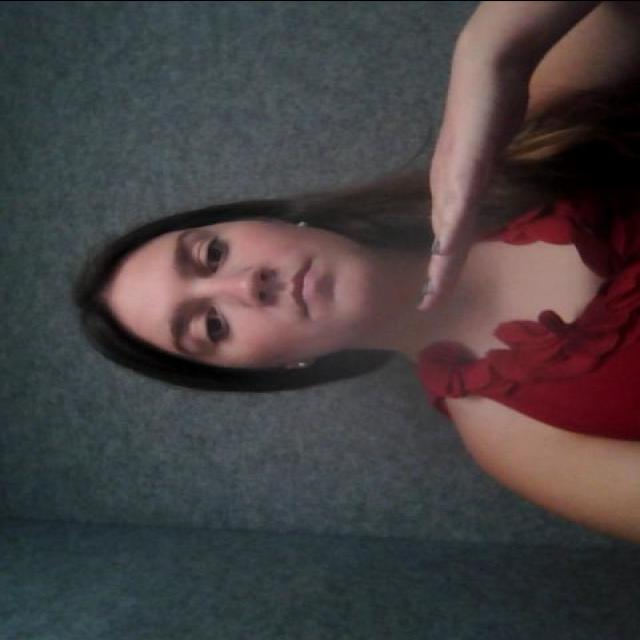Paper: (399, 59, 542, 312)
